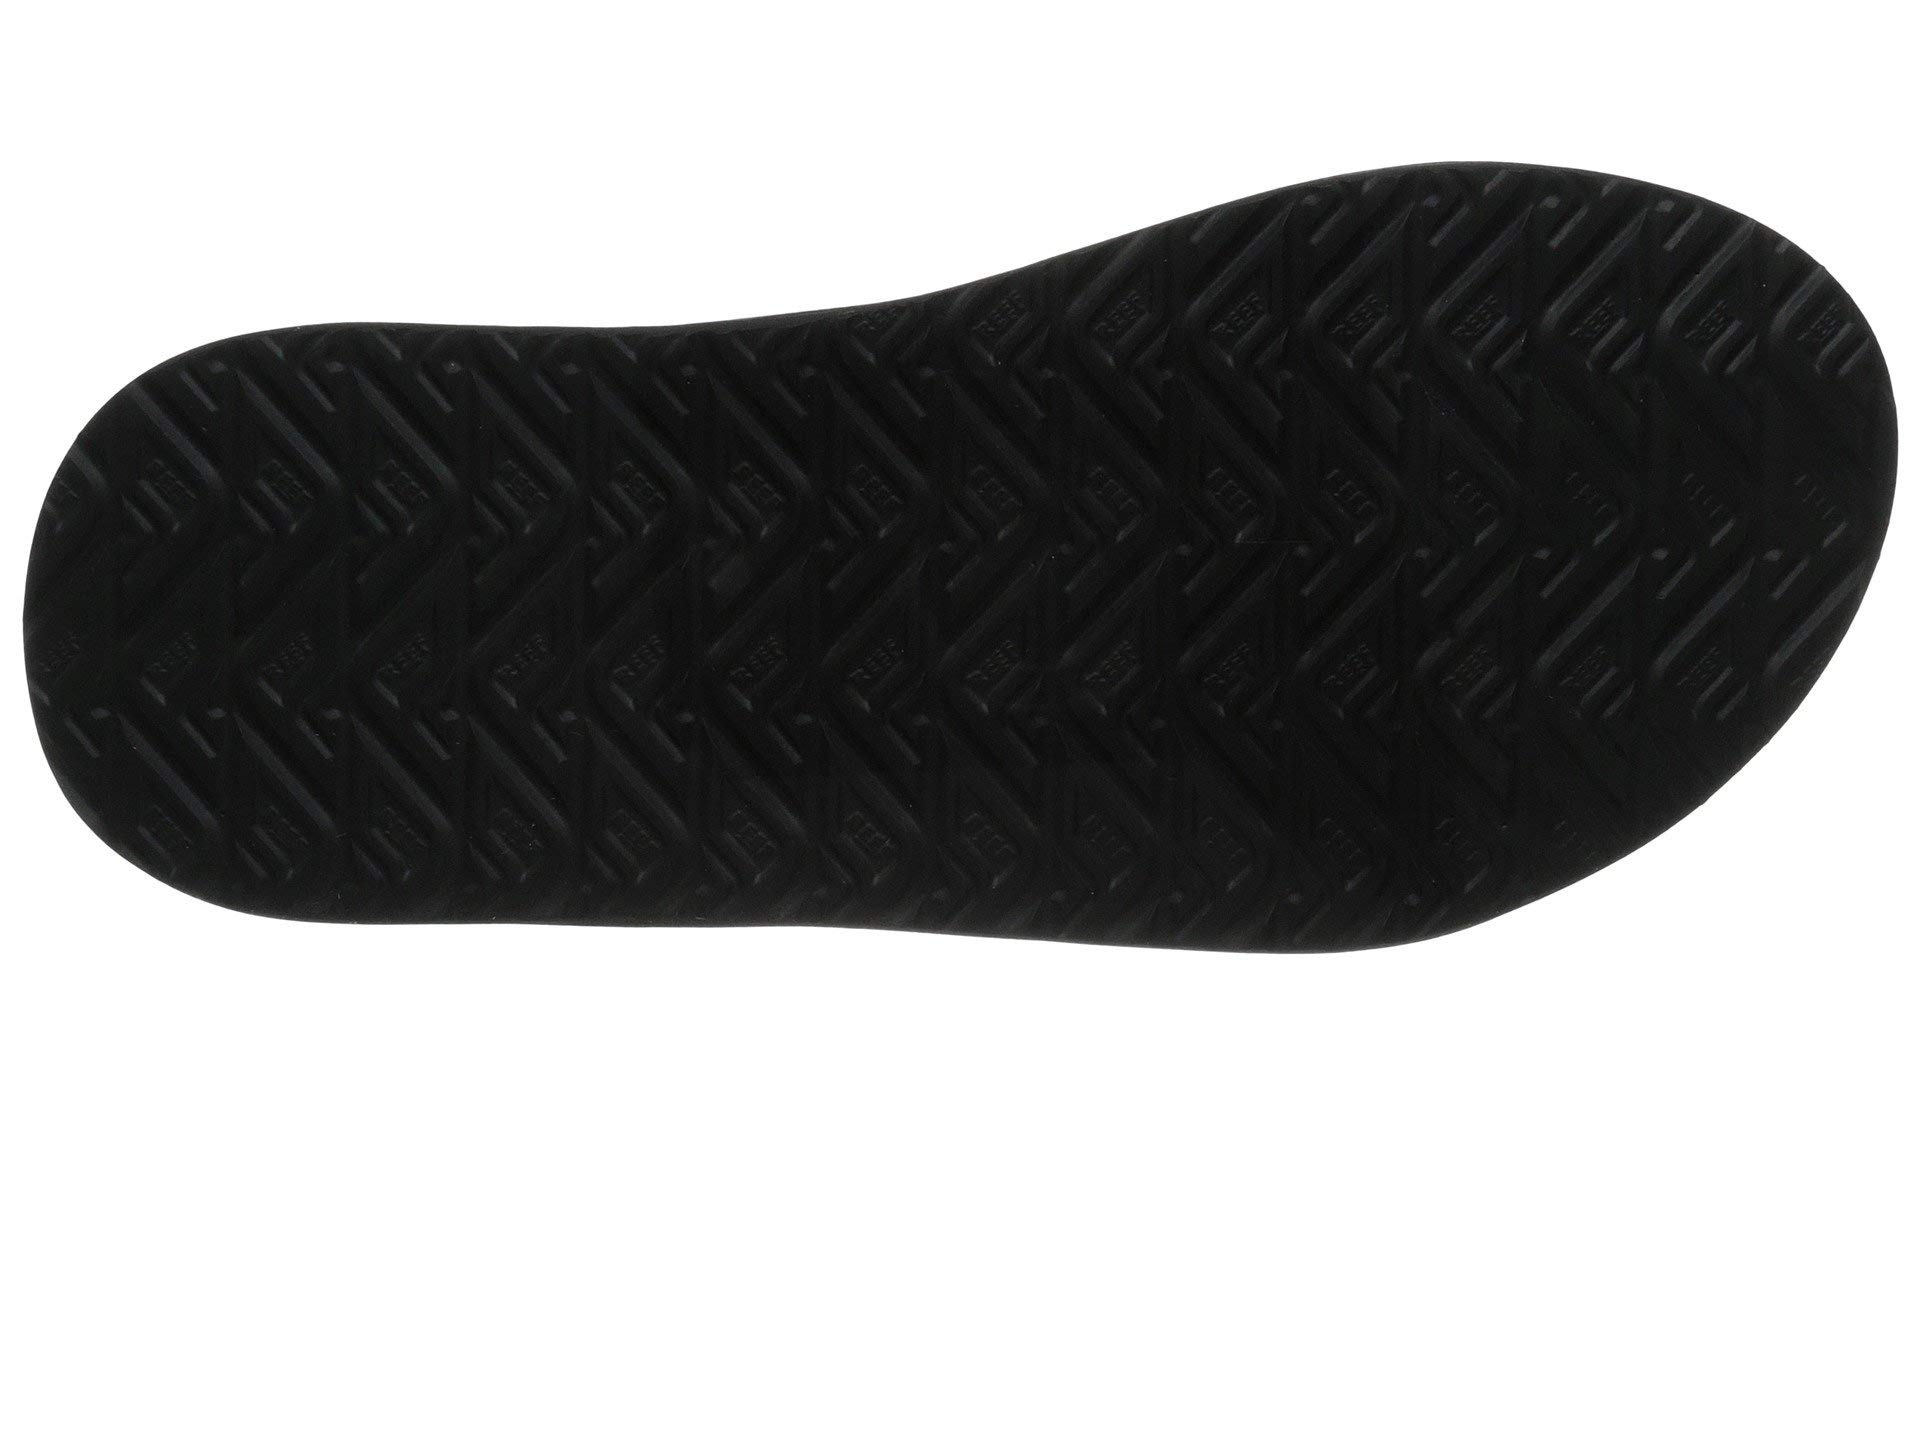chevron: (1099, 278, 1665, 838), (148, 371, 661, 858), (686, 374, 1089, 839)
quad: (1099, 278, 1665, 838), (148, 371, 661, 858), (686, 374, 1089, 839)
text: (1099, 278, 1665, 838), (148, 371, 661, 858), (686, 374, 1089, 839)
